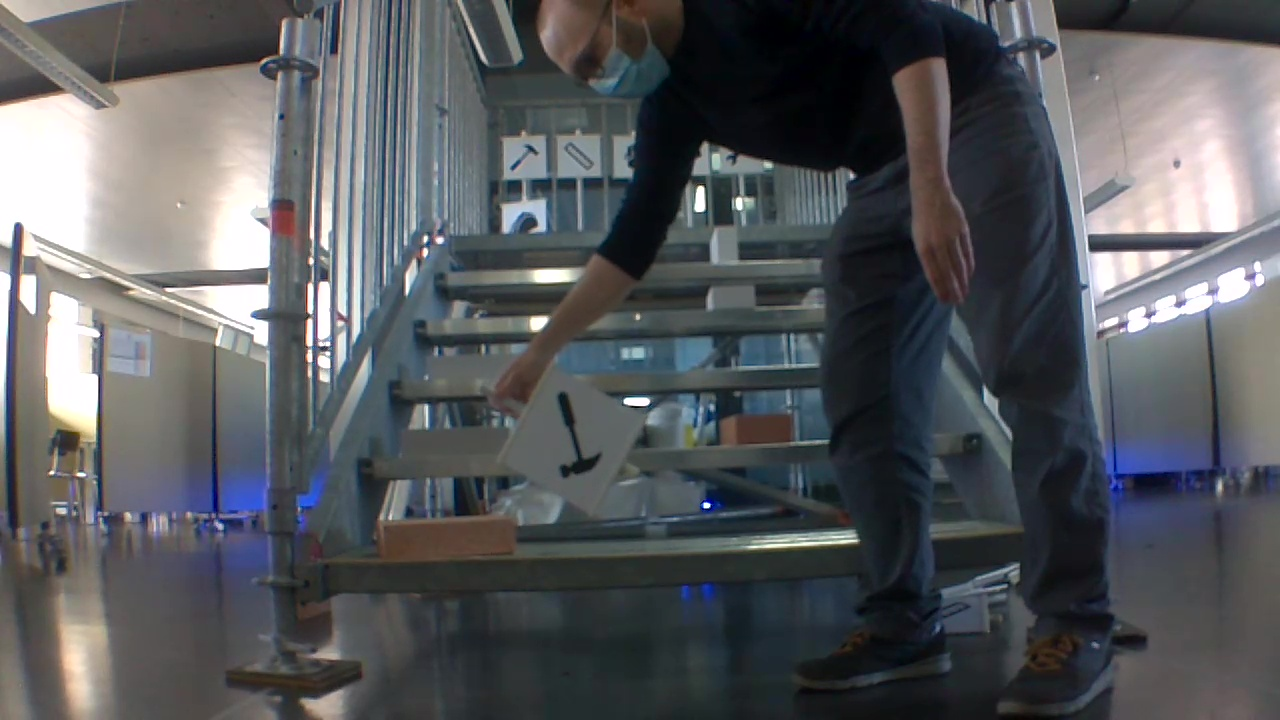brick: (379, 516, 511, 559), (401, 430, 505, 459), (719, 412, 792, 444), (428, 358, 517, 380), (705, 286, 753, 309), (710, 226, 739, 262)
hammer: (542, 388, 611, 482), (502, 140, 542, 177)
ruler: (561, 141, 596, 175)
taco: (506, 209, 540, 235)
